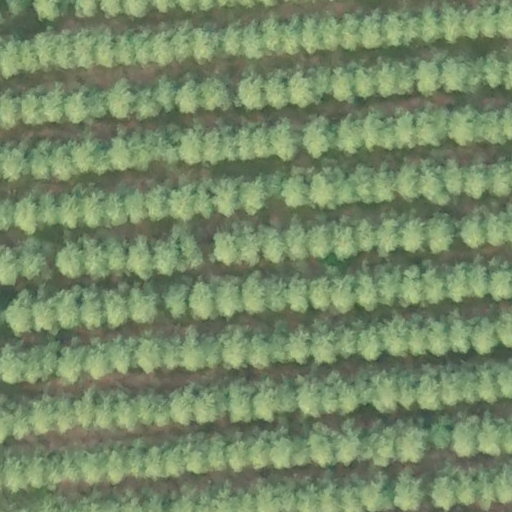eucalipto: (238, 171, 281, 217), (232, 67, 271, 115), (301, 113, 339, 162), (107, 74, 141, 128), (413, 104, 451, 149), (394, 420, 431, 465), (3, 290, 37, 337), (55, 286, 86, 336), (389, 470, 425, 512), (370, 161, 402, 207), (361, 108, 395, 151), (125, 235, 158, 278), (174, 227, 206, 271), (237, 271, 269, 314), (287, 67, 322, 106), (126, 285, 160, 325), (307, 222, 339, 264), (56, 342, 88, 384), (12, 196, 43, 239), (468, 315, 499, 358), (334, 423, 364, 467), (24, 343, 57, 383), (370, 372, 401, 414), (168, 385, 199, 427), (458, 210, 489, 252), (427, 212, 457, 255), (448, 104, 478, 147), (101, 285, 129, 331), (282, 217, 311, 261), (212, 176, 241, 220), (27, 395, 58, 436), (306, 429, 336, 471), (296, 375, 325, 418), (282, 172, 313, 212), (267, 433, 298, 473), (396, 162, 425, 204), (56, 244, 89, 280), (160, 283, 191, 321), (219, 328, 250, 366), (190, 280, 217, 323), (311, 324, 340, 364), (251, 382, 279, 423), (71, 392, 99, 433), (311, 173, 342, 210), (463, 158, 489, 202), (210, 230, 240, 268), (108, 132, 135, 174), (227, 380, 254, 422), (107, 336, 136, 375), (195, 385, 224, 424), (452, 416, 480, 456), (176, 131, 206, 168), (191, 25, 220, 63), (374, 59, 400, 101), (417, 371, 444, 411), (415, 59, 442, 99), (134, 335, 164, 371), (270, 122, 297, 162), (472, 367, 498, 408), (400, 217, 428, 255), (62, 89, 90, 127), (358, 325, 385, 364), (178, 328, 205, 367), (49, 142, 75, 182), (246, 331, 274, 368), (225, 437, 253, 474), (287, 275, 314, 313), (43, 85, 70, 123), (421, 264, 446, 305), (287, 324, 312, 365), (331, 65, 357, 104), (54, 29, 80, 68), (299, 12, 322, 56), (122, 185, 150, 221), (339, 11, 363, 53), (429, 476, 457, 512), (261, 18, 288, 55), (177, 77, 203, 115), (355, 271, 379, 312), (16, 40, 44, 75), (453, 469, 478, 508), (420, 5, 444, 45), (427, 316, 452, 354), (151, 31, 176, 69), (492, 459, 512, 506), (352, 218, 378, 254), (258, 224, 283, 261), (483, 52, 507, 90), (361, 13, 384, 52), (103, 449, 129, 483), (113, 30, 136, 68), (444, 156, 464, 198), (478, 5, 500, 40), (323, 16, 342, 54)
